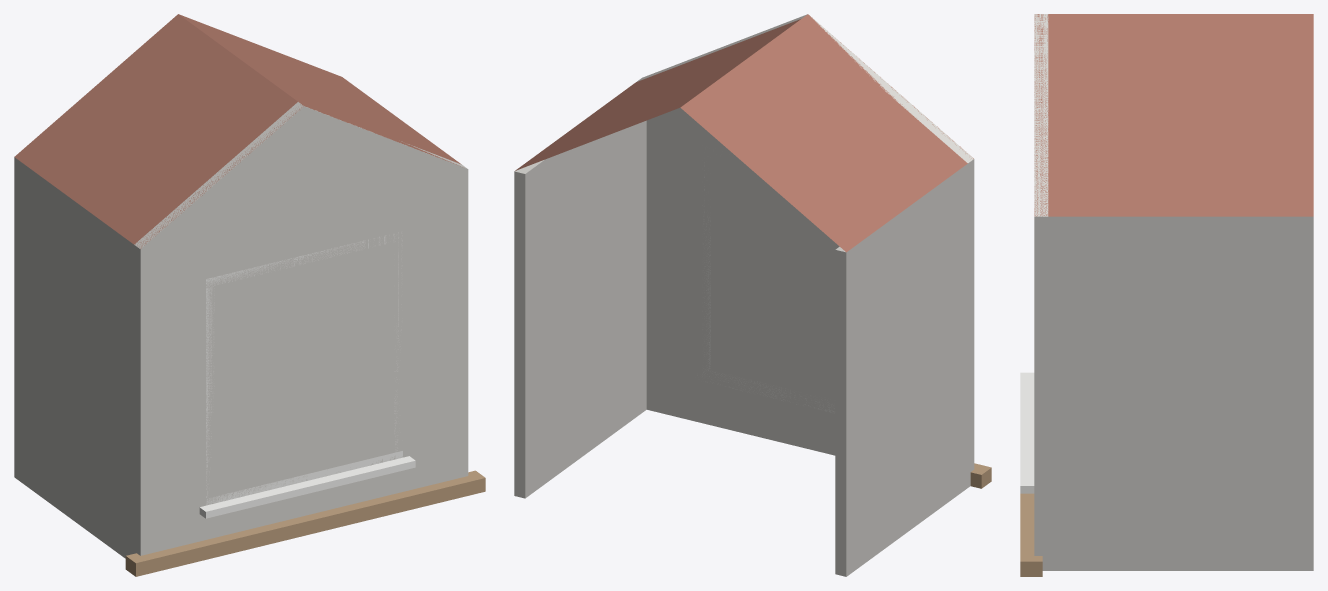
File: mod_dormer.glb
3 renders of one model, left to right at view 1: azimuth 30°, elevation 25°; view 2: azimuth 150°, elevation 25°; view 3: azimuth 270°, elevation 25°, orthographic. The views are drawn at different scales.
Parts seen in each view (by area): view 1: wall_front, wall_left, roof_left, cornice, roof_right, wall_right, sill, frame_bottom, frame_top, frame_left; view 2: wall_front, wall_left, wall_right, roof_left, roof_right; view 3: wall_right, roof_right, wall_front, sill, cornice.
Boxes of the visible parts, left/top/right/bottom form: wall_front: left=134, top=102, right=468, bottom=555; wall_left: left=14, top=157, right=151, bottom=558; roof_left: left=14, top=14, right=303, bottom=248; cornice: left=125, top=470, right=485, bottom=576; roof_right: left=179, top=14, right=461, bottom=166; wall_right: left=457, top=170, right=468, bottom=478; sill: left=199, top=456, right=415, bottom=518; frame_bottom: left=206, top=451, right=402, bottom=505; frame_top: left=206, top=232, right=402, bottom=287; frame_left: left=206, top=287, right=214, bottom=497; wall_front: left=637, top=14, right=974, bottom=487; wall_left: left=835, top=164, right=974, bottom=576; wall_right: left=514, top=120, right=646, bottom=498; roof_left: left=680, top=14, right=973, bottom=252; roof_right: left=515, top=19, right=800, bottom=170; wall_right: left=1034, top=216, right=1313, bottom=570; roof_right: left=1034, top=14, right=1313, bottom=216; wall_front: left=1034, top=14, right=1048, bottom=570; sill: left=1020, top=372, right=1034, bottom=493; cornice: left=1020, top=493, right=1042, bottom=576.
Bounding box in the file's own units: 1.6 × 1.85 × 1.05.
